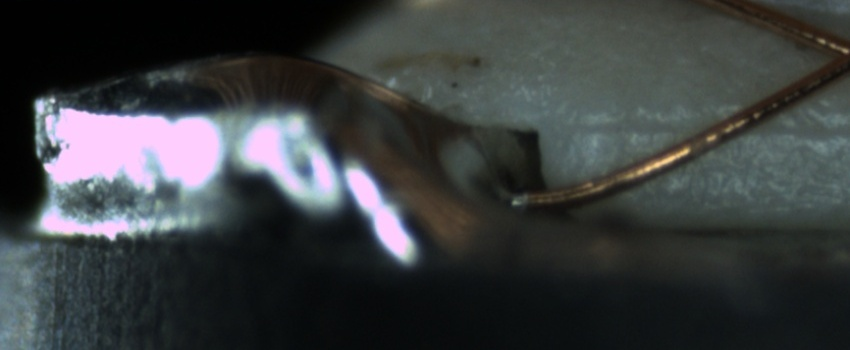CL: (798, 24, 850, 89)
DL: (572, 99, 850, 160)
